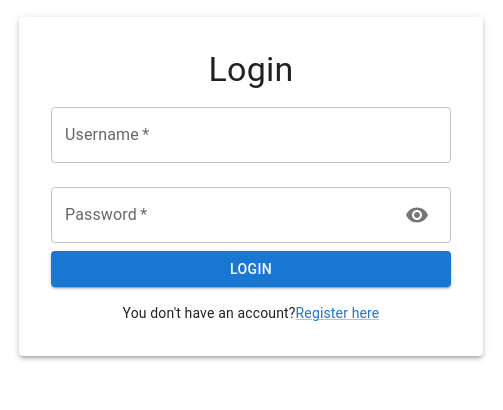
Test: Login Page › should display error message on login failure
The image size is (503, 410).
In the field named "username": {"x": 251, "y": 135} [51,107,451,163], type "wronguser"
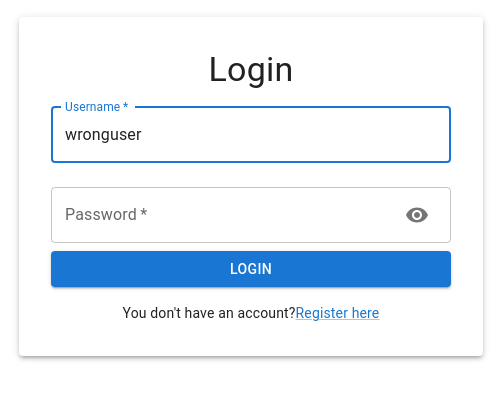
In the password field named "password": {"x": 220, "y": 215} [51,187,389,243], type "wrongpass"
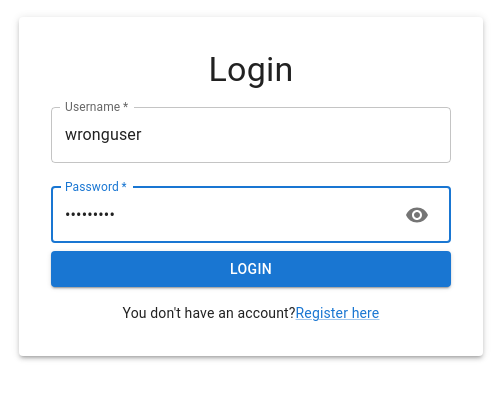
Click the submit button: {"x": 251, "y": 270} [51,251,451,288]
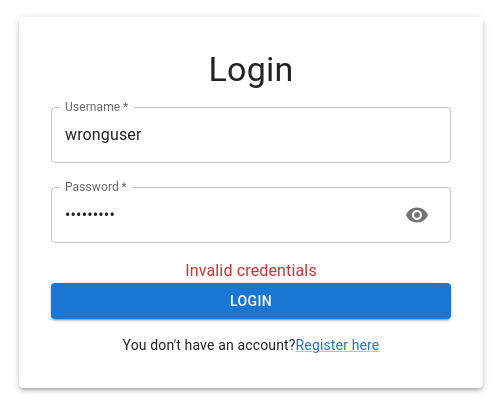
Result: the text "Invalid credentials" is shown at [185,261,317,280]
